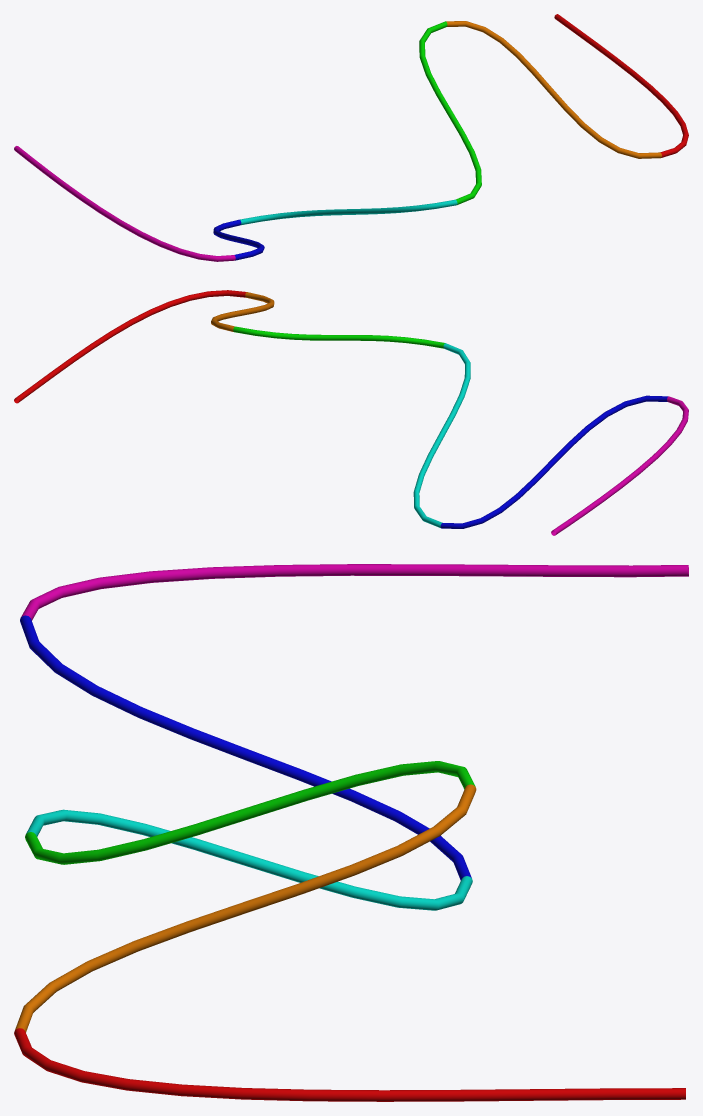
File: wire_collision.OBJ
3 renders of one model, top to bottom at view 1: azimuth 30°, elevation 25°; view 2: azimuth 150°, elevation 25°; view 3: azimuth 270°, elevation 25°, orthographic. The views are drawn at different scales.
Visible parts, largest first — view 1: wire_collision; view 2: wire_collision; view 3: wire_collision.
Part boxes in pixels (<box>): wire_collision: <box>14,14,688,261</box>; wire_collision: <box>14,290,688,535</box>; wire_collision: <box>14,564,688,1101</box>.
Bounding box in the file's own units: 1.37 × 0.3647 × 0.7351.
